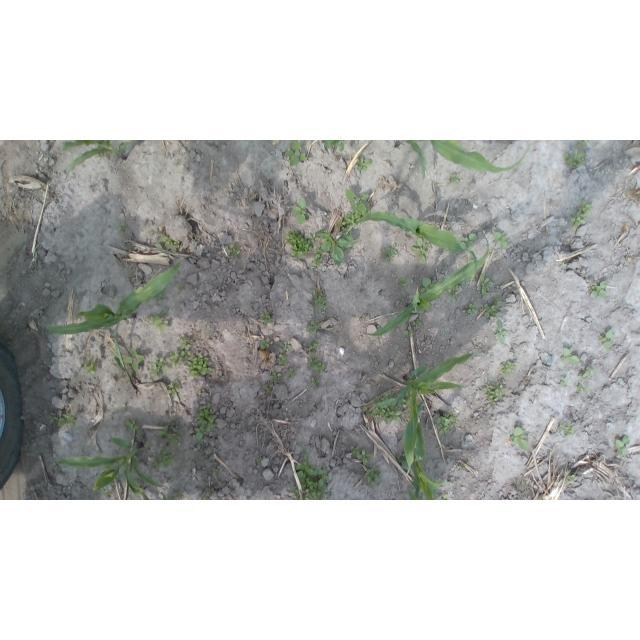Maize: (370, 354, 478, 480), (368, 230, 491, 337), (46, 262, 181, 334), (352, 212, 479, 272), (56, 436, 164, 500), (432, 141, 533, 172), (60, 140, 133, 168), (114, 326, 138, 393), (413, 452, 443, 500), (402, 141, 426, 180), (139, 493, 150, 500), (161, 492, 167, 499)
Weeds: (296, 452, 330, 500), (317, 231, 353, 268), (193, 406, 218, 440), (285, 231, 311, 258), (123, 348, 147, 373), (345, 189, 371, 212), (572, 199, 590, 232), (148, 306, 169, 334), (286, 141, 308, 166), (412, 237, 431, 264), (434, 412, 458, 433), (187, 356, 210, 377), (509, 426, 529, 450), (563, 151, 586, 169), (160, 426, 183, 443), (294, 198, 309, 224), (352, 447, 372, 466), (313, 287, 329, 310), (382, 407, 403, 424), (308, 356, 327, 374), (590, 281, 608, 300), (381, 243, 399, 261), (150, 355, 166, 375), (495, 319, 507, 345), (562, 347, 580, 364), (366, 468, 382, 487), (266, 373, 282, 392), (155, 454, 173, 470), (492, 231, 508, 249), (617, 434, 630, 456), (600, 329, 613, 351), (487, 384, 502, 402), (356, 156, 374, 171), (558, 420, 574, 436), (459, 233, 475, 249), (342, 212, 360, 226), (323, 141, 345, 152), (478, 278, 492, 295), (58, 414, 76, 427), (261, 311, 276, 326), (421, 278, 436, 293), (84, 359, 98, 374), (483, 304, 497, 319), (501, 362, 517, 375), (180, 338, 191, 356), (156, 244, 178, 253), (202, 486, 215, 500), (314, 249, 323, 268), (126, 420, 139, 432), (465, 303, 477, 315), (577, 369, 591, 379), (171, 351, 180, 366), (229, 244, 240, 256), (307, 323, 320, 333), (168, 382, 178, 394), (262, 338, 271, 351), (449, 172, 458, 185), (171, 489, 181, 500), (283, 341, 293, 352), (450, 289, 458, 302), (568, 474, 578, 484), (310, 377, 318, 389), (120, 224, 129, 234), (397, 278, 407, 287), (288, 367, 295, 379), (279, 357, 288, 366), (310, 342, 319, 350), (405, 328, 413, 337), (161, 446, 170, 454), (561, 377, 568, 387), (413, 320, 423, 327), (165, 236, 172, 245), (375, 408, 382, 417), (213, 468, 220, 477), (375, 395, 390, 399), (48, 415, 54, 425), (173, 160, 181, 167), (576, 385, 584, 392), (172, 241, 181, 247), (366, 409, 372, 417), (492, 296, 498, 304), (578, 140, 586, 146), (178, 285, 185, 291), (144, 441, 151, 447), (124, 404, 131, 408), (196, 236, 201, 241), (258, 454, 262, 460)
